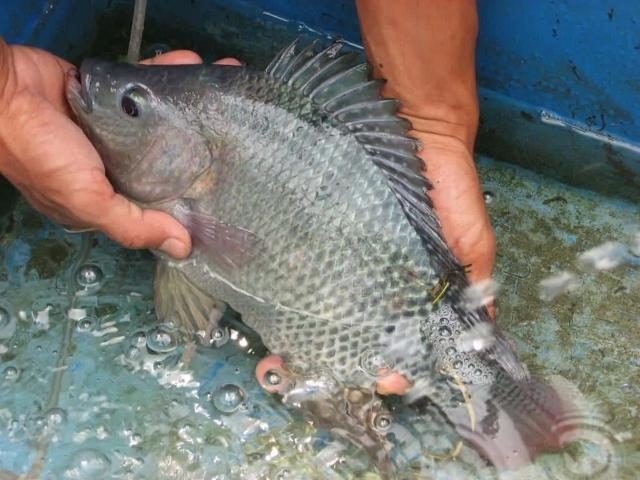Mulut: (47, 48, 117, 126)
Sirip Dada: (148, 181, 276, 291)
Sirip Ekor: (426, 322, 598, 480)
Sirip Perut: (138, 252, 224, 384)
Sirip Punggung: (252, 32, 482, 306)
